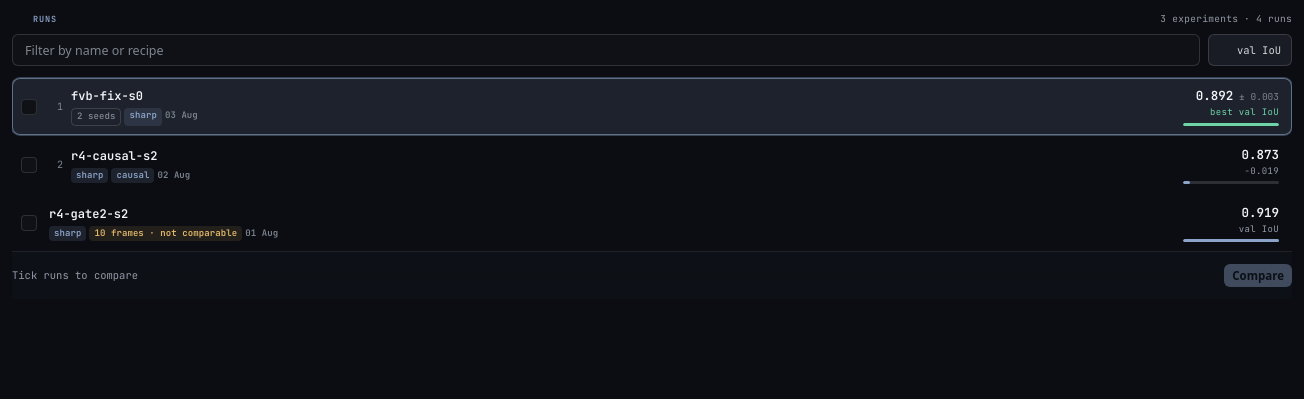
RunRail › cycles the sort order, and always says which one it is in
The image size is (1304, 399).
Expected: the option "1 fvb-fix-s0 2 seeds sharp 03 Aug 0.892 ± 0.003 best val IoU" is shown, [45,79,1291,134]
Click the button named "Sort order: val IoU" at (1250, 50), box [1208,34,1292,66]
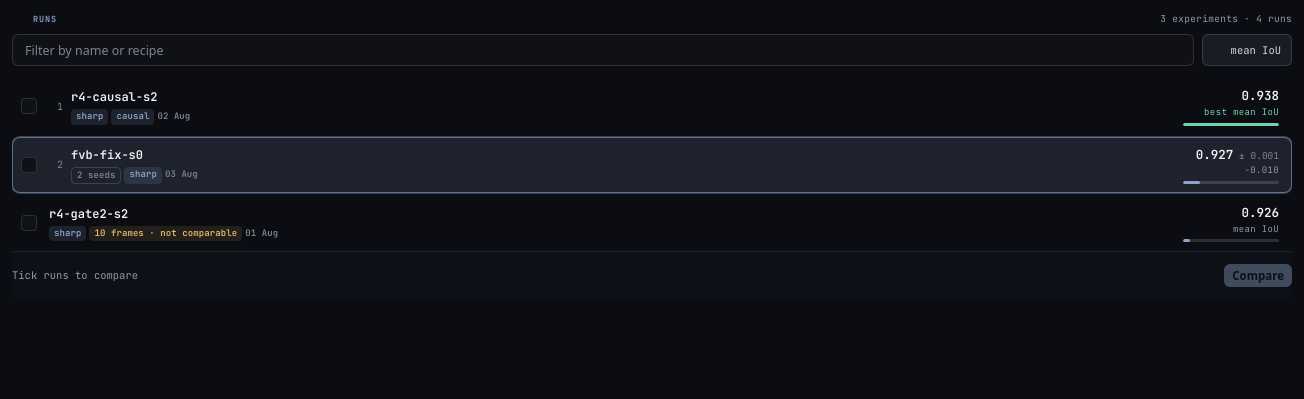
Expected: the option "1 r4-causal-s2 sharp causal 02 Aug 0.938 best mean IoU" is shown, [45,79,1291,134]
Expected: the button named "Sort order: mean IoU" is shown
Round the cycle: newest, then back to where it started.
Click the button named "Sort order: mean IoU" at (1247, 50), box [1202,34,1292,66]
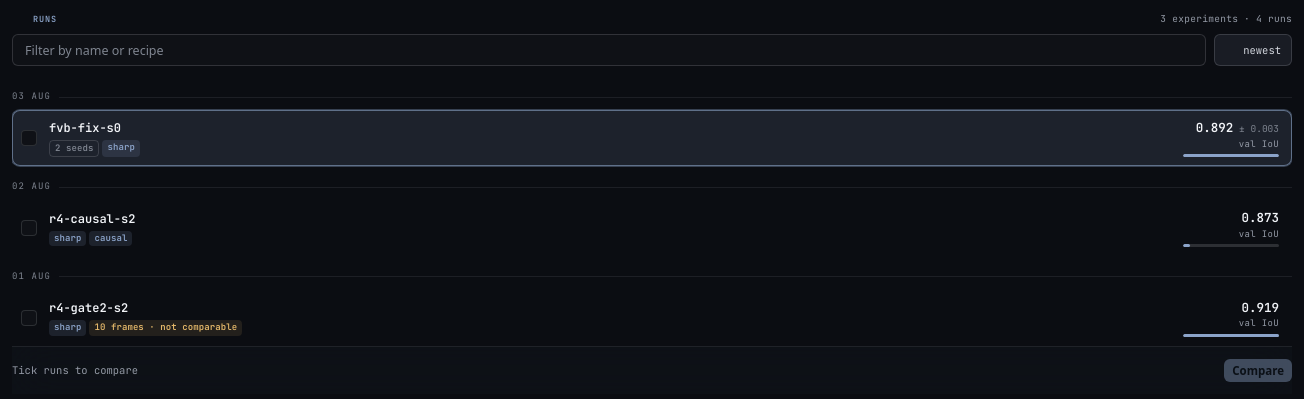
Click the button named "Sort order: newest" at (1253, 50), box [1214,34,1292,66]
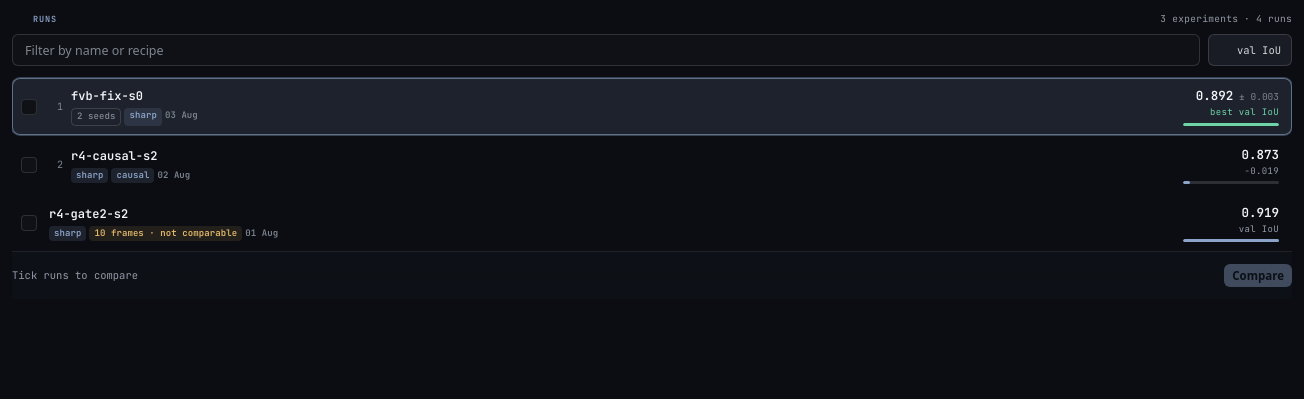
Expected: the button named "Sort order: val IoU" is shown, [1208,34,1292,66]
